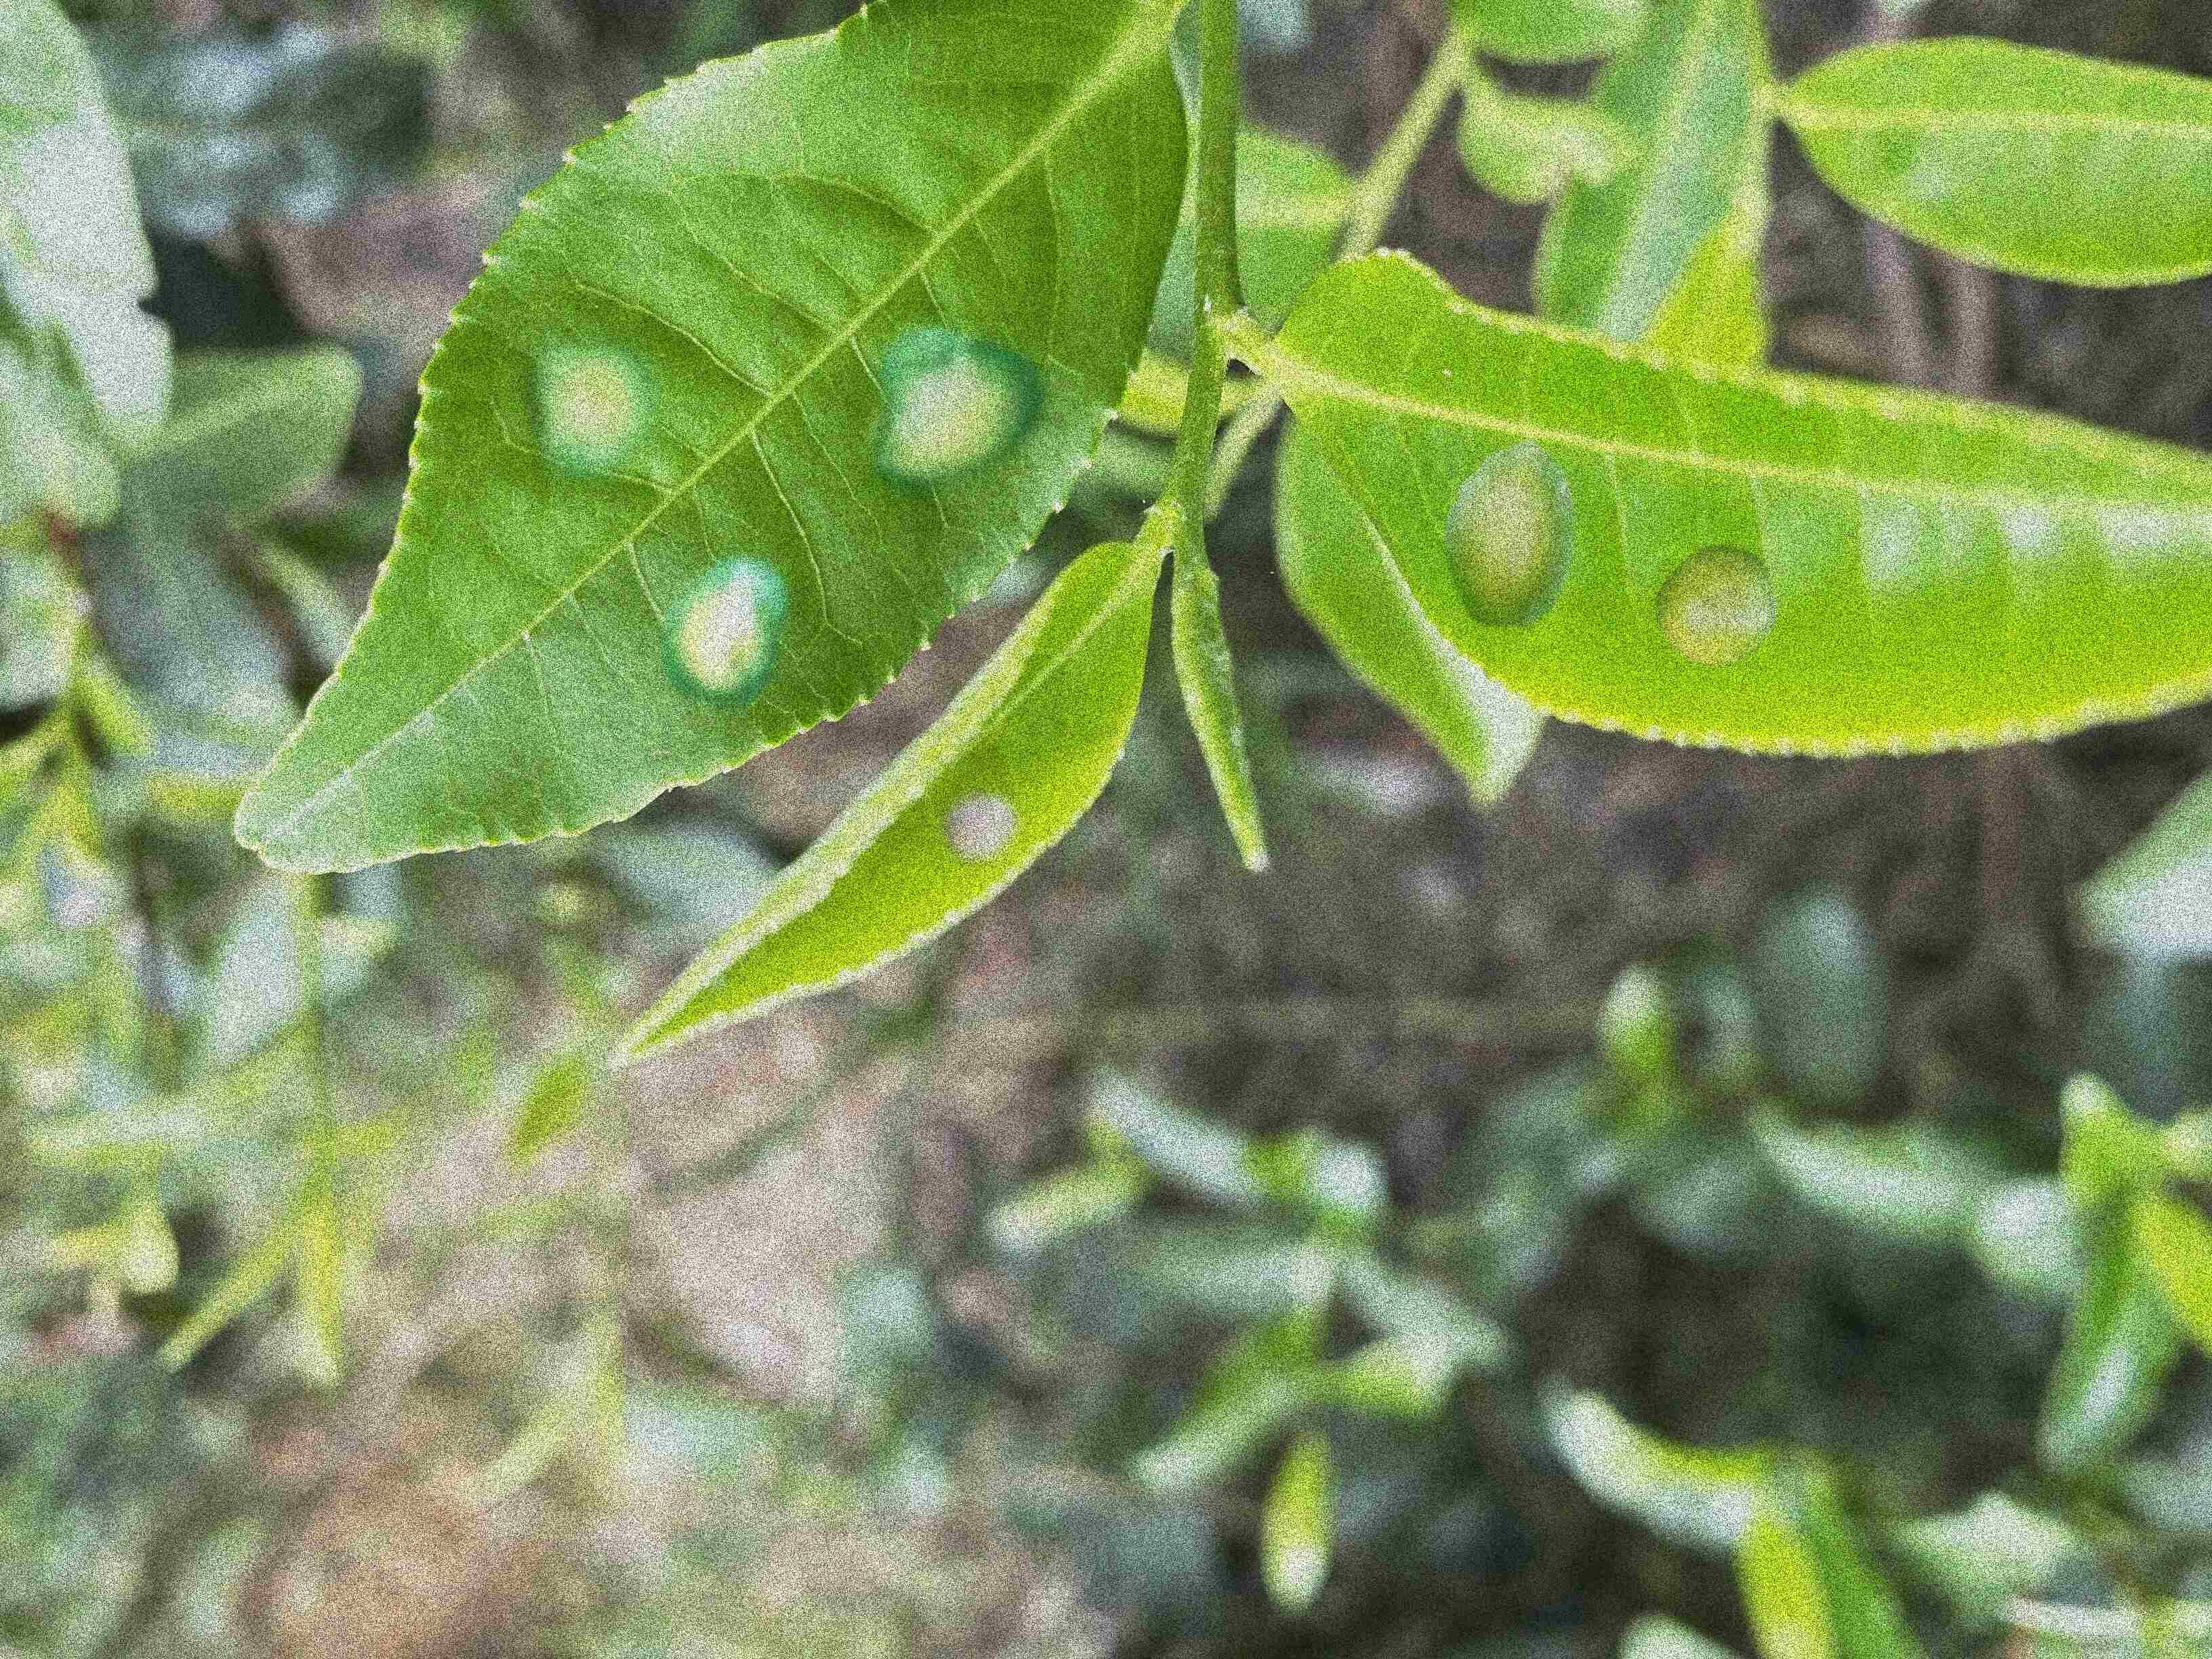chabing_high: (230, 3, 1191, 878), (1277, 249, 2209, 762)
chabing_low: (606, 538, 1162, 1073)
